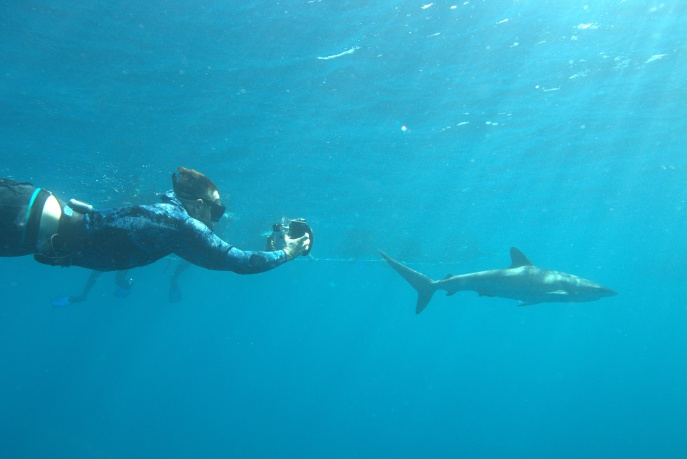Sedoso: (353, 233, 627, 335)
